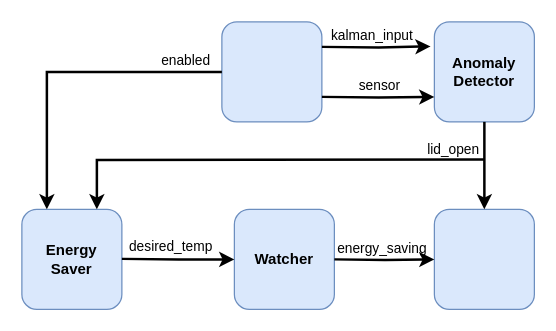
The diagram is 556 pixels wide and 331 high, and some of its shapes have lost their labels. The centre of each missing label's shape, as x and y in pixels:
NuRV FMU Monitor: point 483,258
Source: point 271,71
